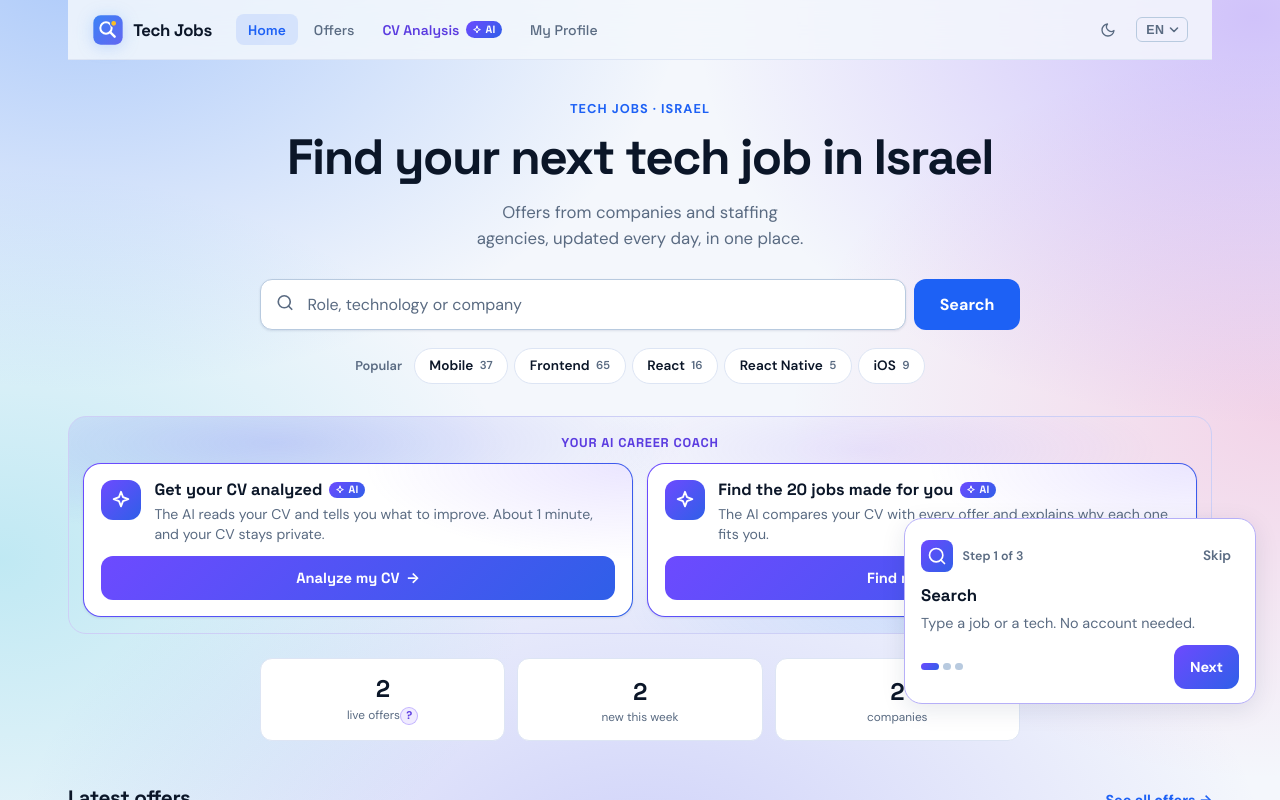
Autocomplete on the home page (integration) › keeps working (plain search) when the suggestions service is down
The width and height of the screenshot is (1280, 800).
Type "react" into the dropdown named "Search offers" at (583, 305), box [260,279,906,330]
Then press Enter
(page scrolled)
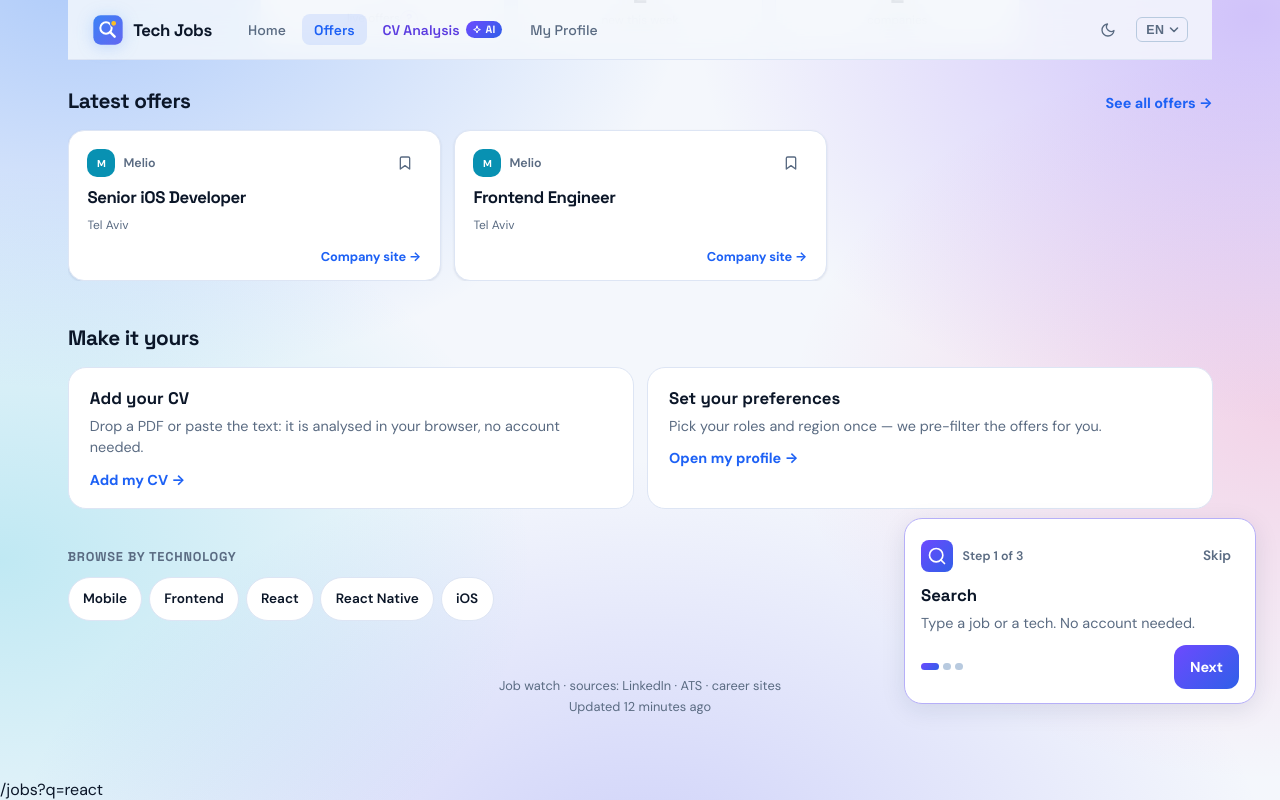
Expected: the text with test id "location" reads "/jobs?q=react", [0,779,103,799]
